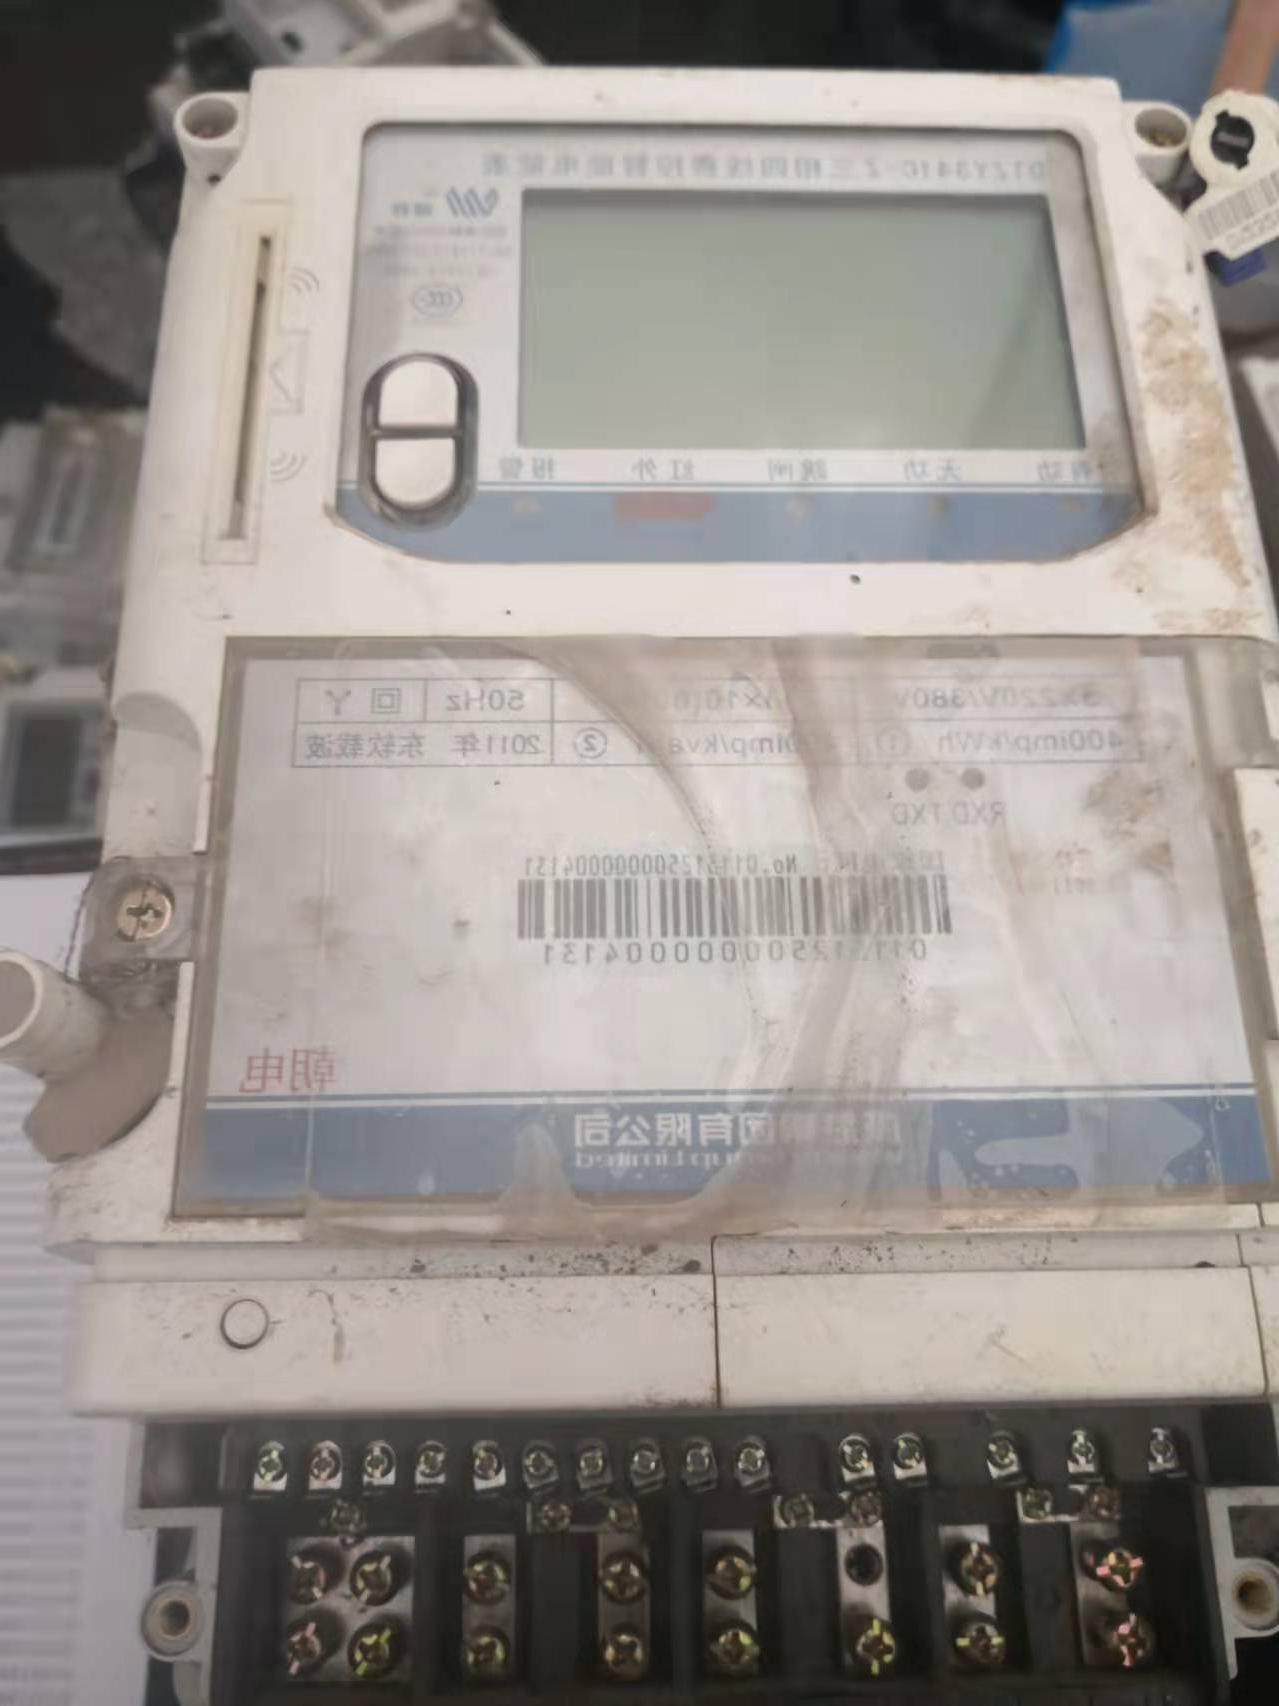digital: (59, 64, 1279, 1241)
